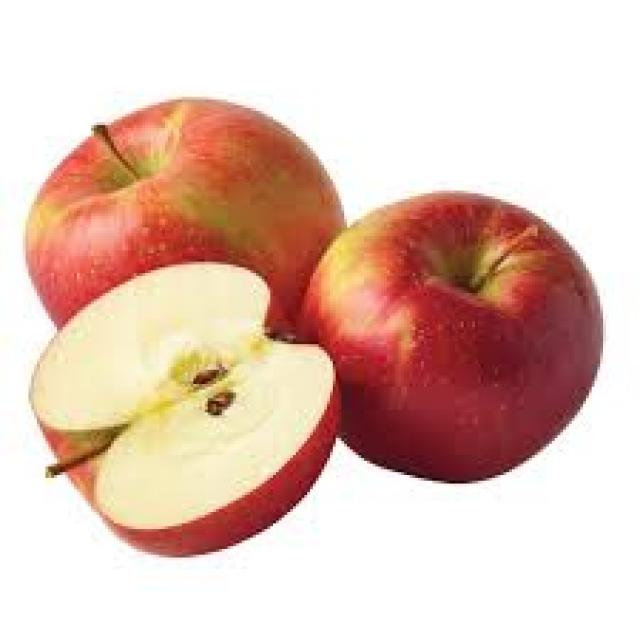Apple: (28, 263, 332, 557), (308, 196, 609, 481), (23, 98, 342, 292)
